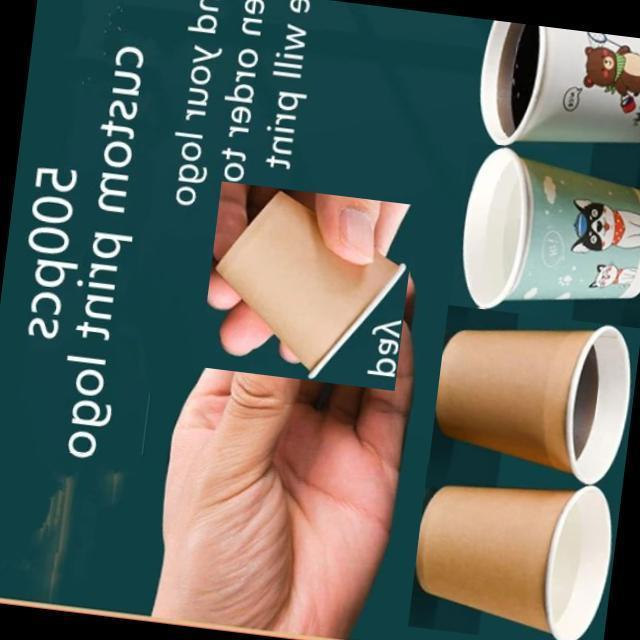Cup: (198, 180, 416, 390), (428, 303, 640, 488), (407, 463, 621, 640), (449, 140, 640, 327), (469, 17, 640, 164)
